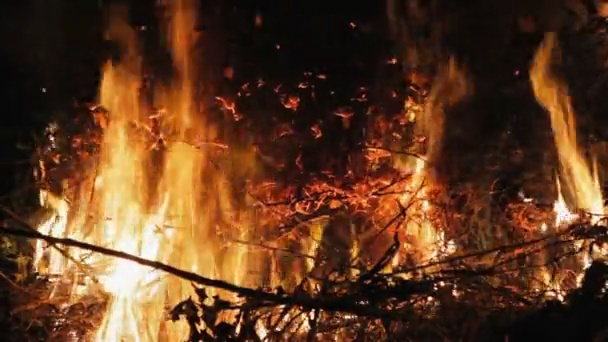fire: (35, 4, 242, 342), (529, 37, 608, 225), (400, 155, 451, 266), (537, 247, 590, 297)
